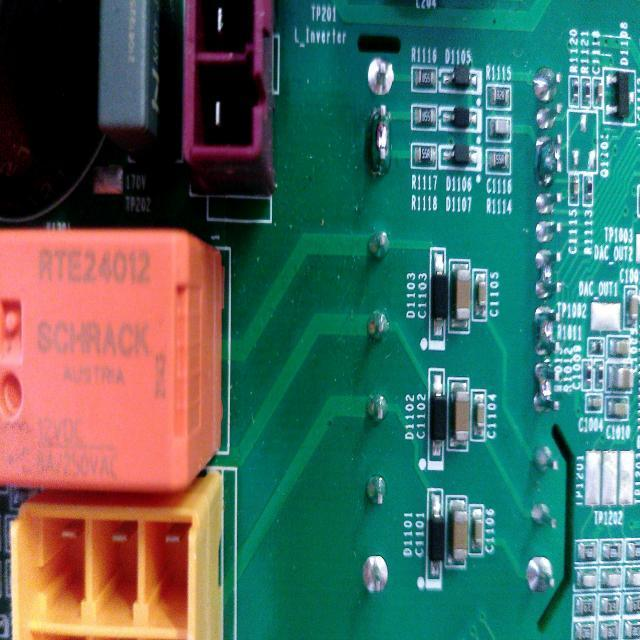Soldering shorted: (364, 100, 397, 184), (530, 246, 564, 306), (528, 302, 563, 359), (530, 360, 562, 420), (536, 130, 564, 189)
